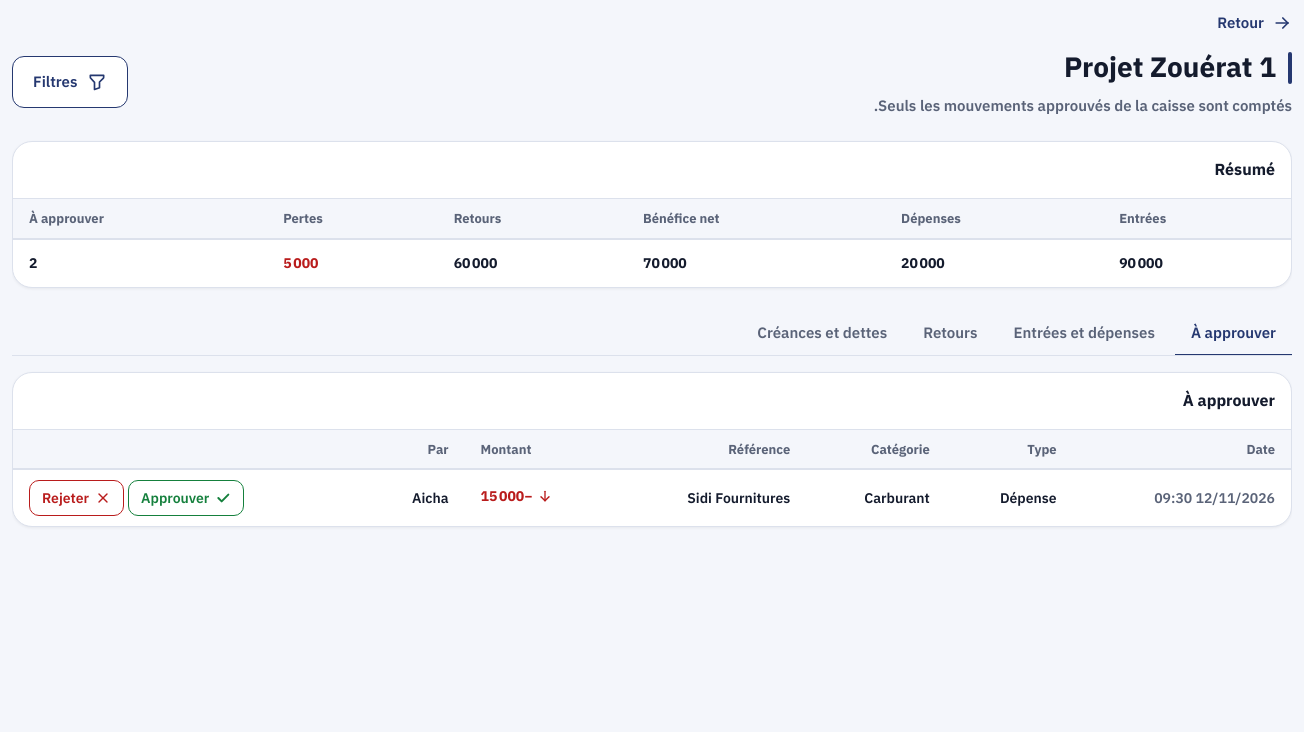
it: AccountingProjectScreen › shows the project's summary, then tabs opening on the movements to approve
This screenshot has width=1304, height=732.
Expected: the heading "À approuver" is shown, [1183, 388, 1275, 412]
Expected: the heading "Dépenses par catégorie" is not shown
What coordinates should you click on to do the following:
click the tab "Entrées et dépenses"
I would click on:
 (1084, 334)
Its box is [998, 312, 1171, 356].
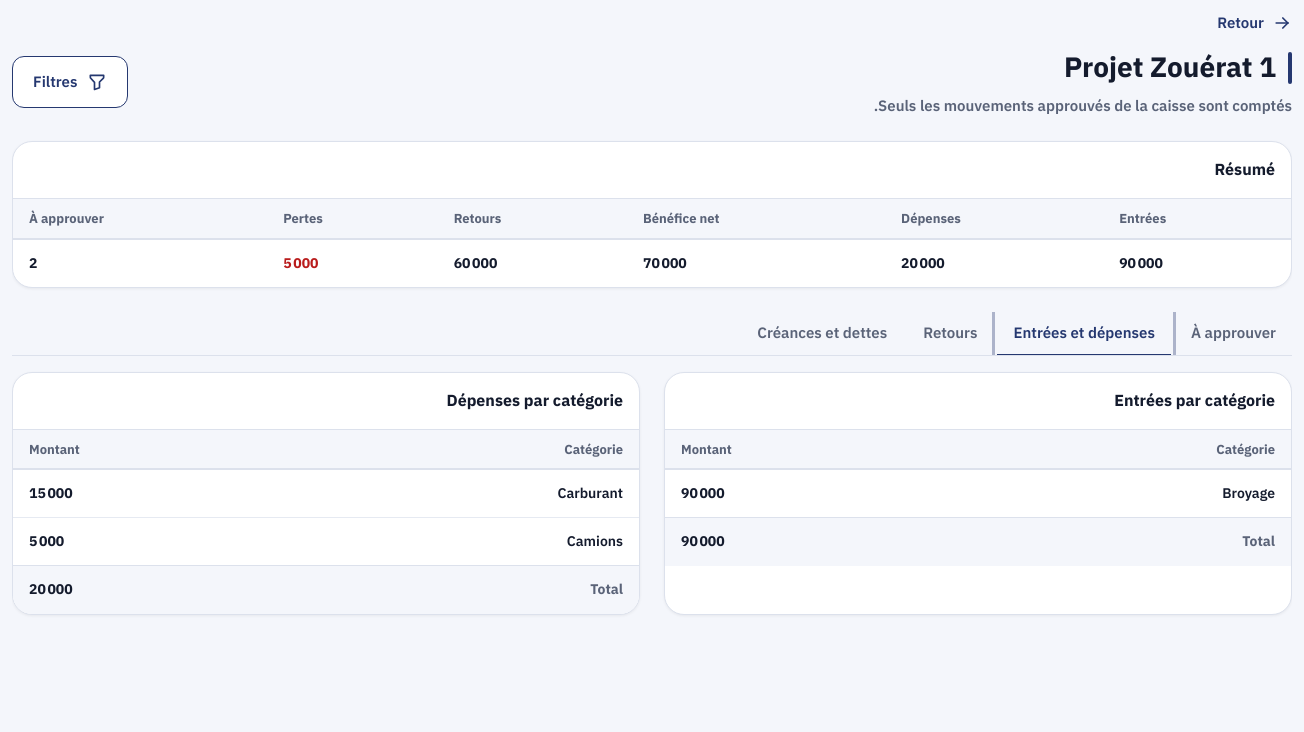
Now the text "Camions" is shown, box [567, 531, 623, 552]
